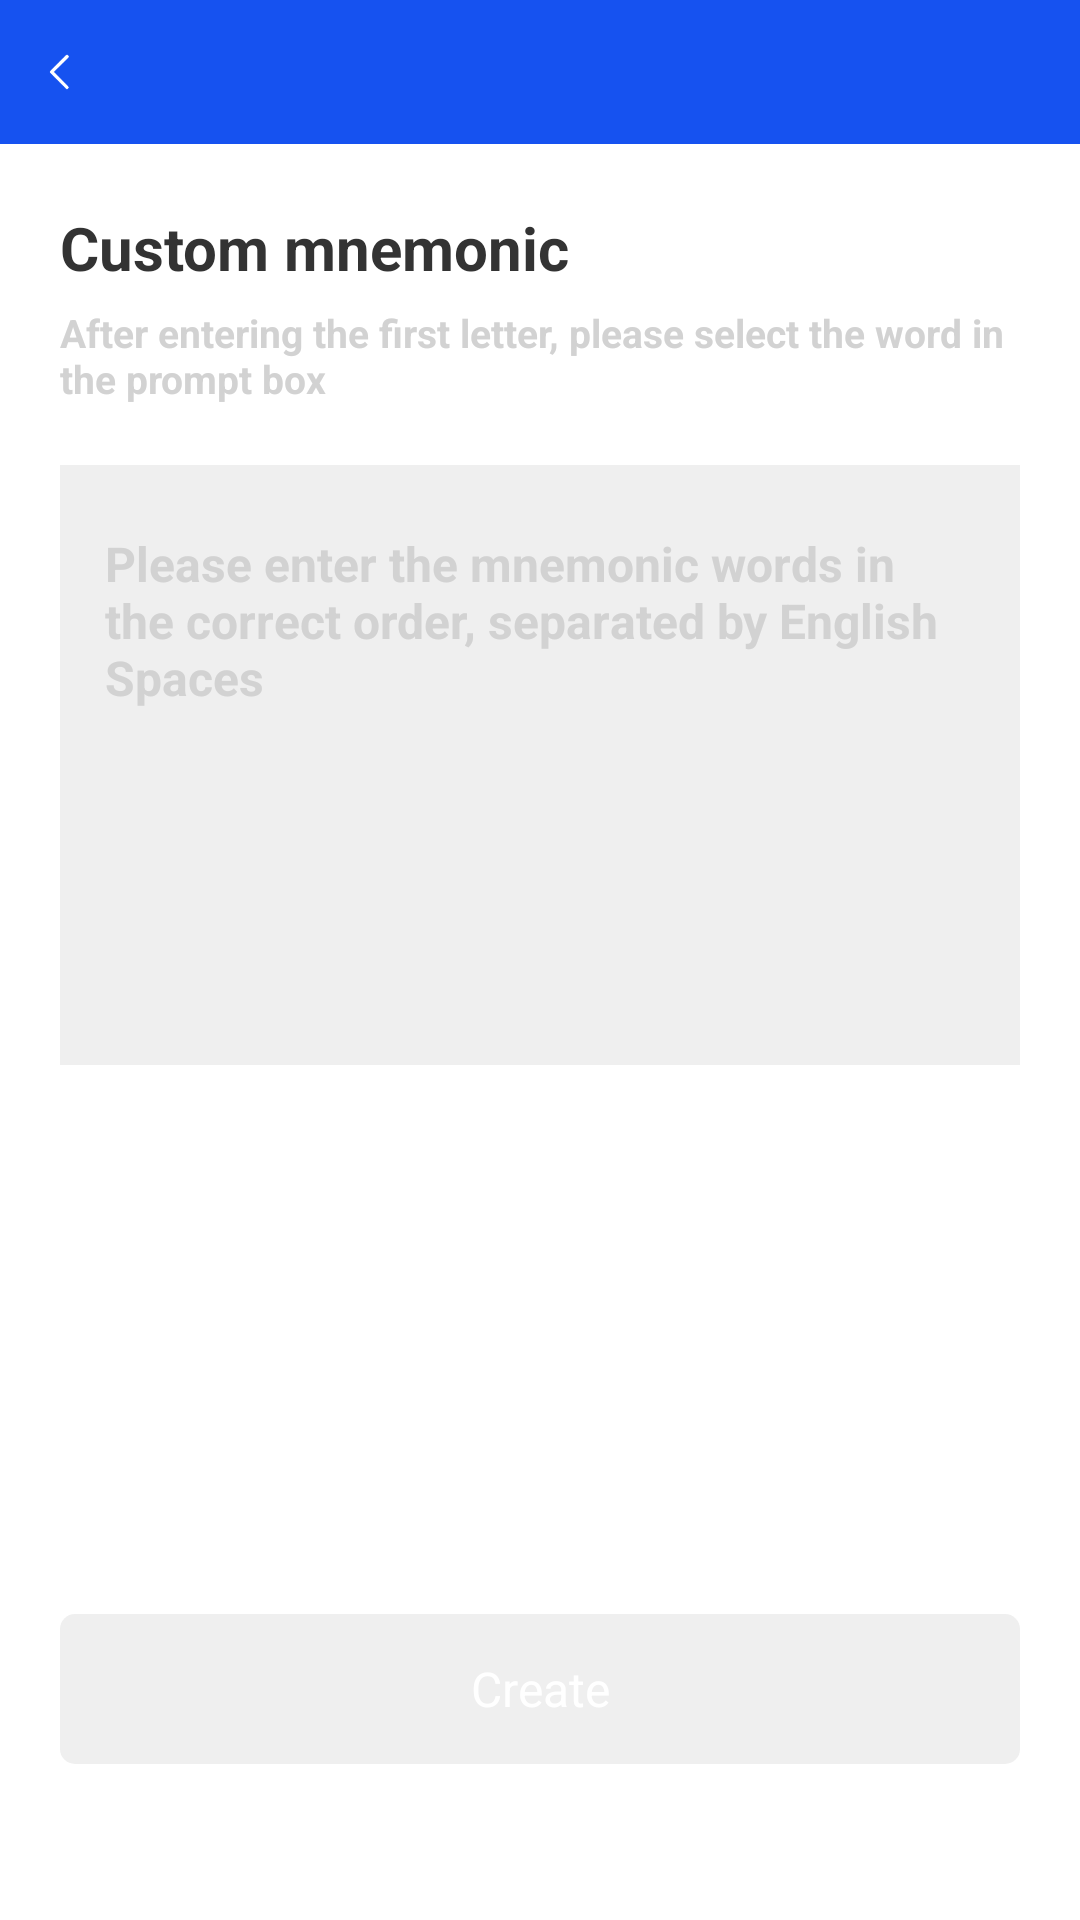

Screen size 1080x1920. Icon name, then its box in pixels as (x1, y1, x2, y2):
back: (50, 54, 69, 89)
